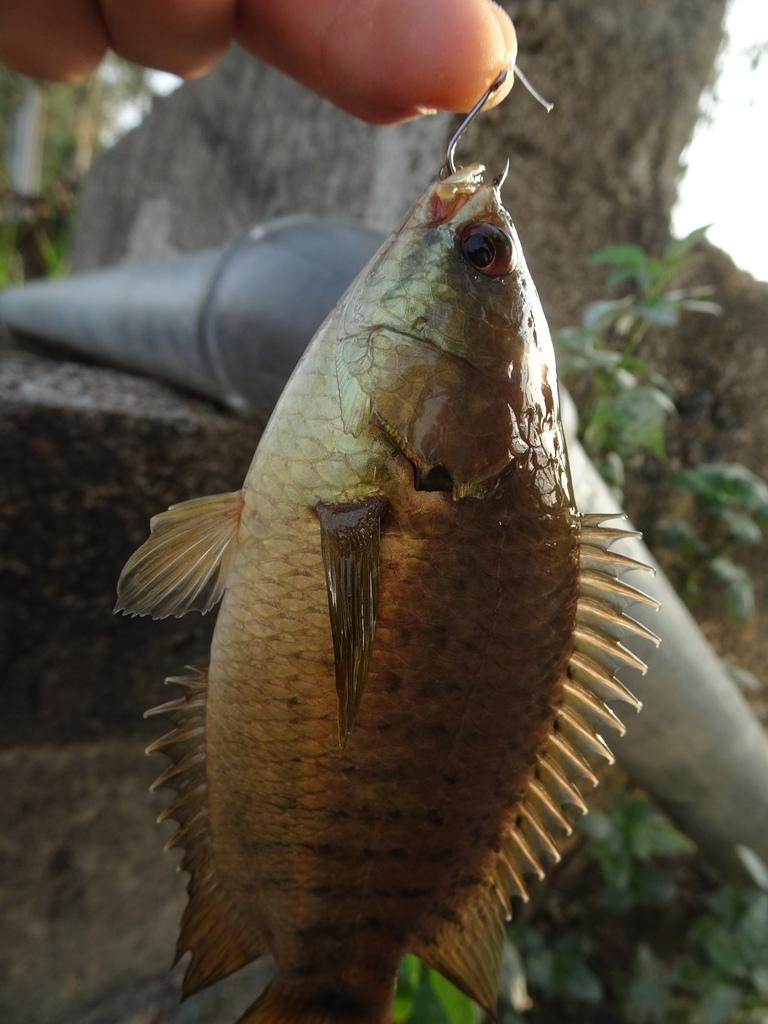Climbing Perch: (113, 155, 678, 1024)
